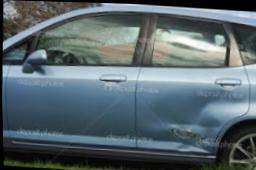Door: (165, 92, 248, 158)
